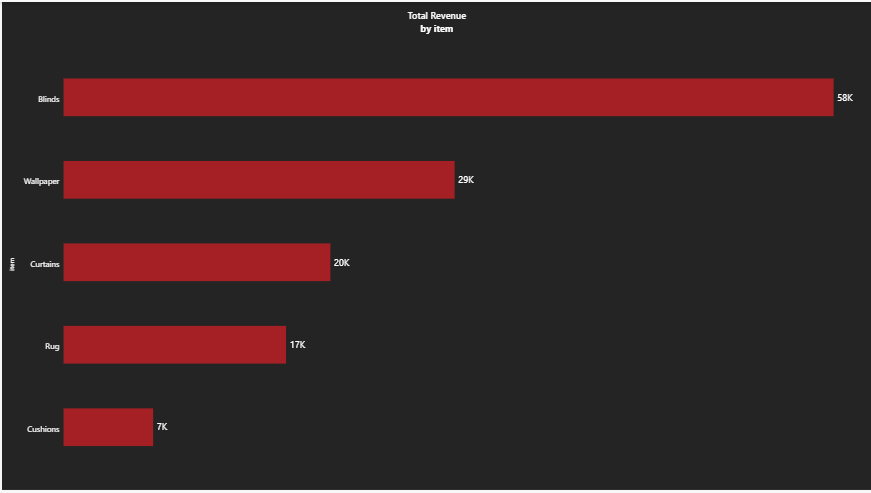

The page's visual inventory and layout, read from the dashboard file:
{"tool":"powerbi","page":{"name":"Page 2","canvas":[1920,1080],"ordinal":1},"visuals":[{"type":"clusteredBarChart","fields":{"Category":["gillionaire_capstone_cleaned.item"],"Y":["gillionaire_capstone_cleaned.Total Revenue"]},"box":[10.8,0,1879.2,1054.1],"z":1}]}

Visuals, with their boxes in screenshot pixels (x1, y1, x2, y2), scaled from the page's 1920x1080 canvas onto the 871x493 screenshot:
clusteredBarChart - gillionaire_capstone_cleaned.item x gillionaire_capstone_cleaned.Total Revenue: [5, 0, 857, 481]
